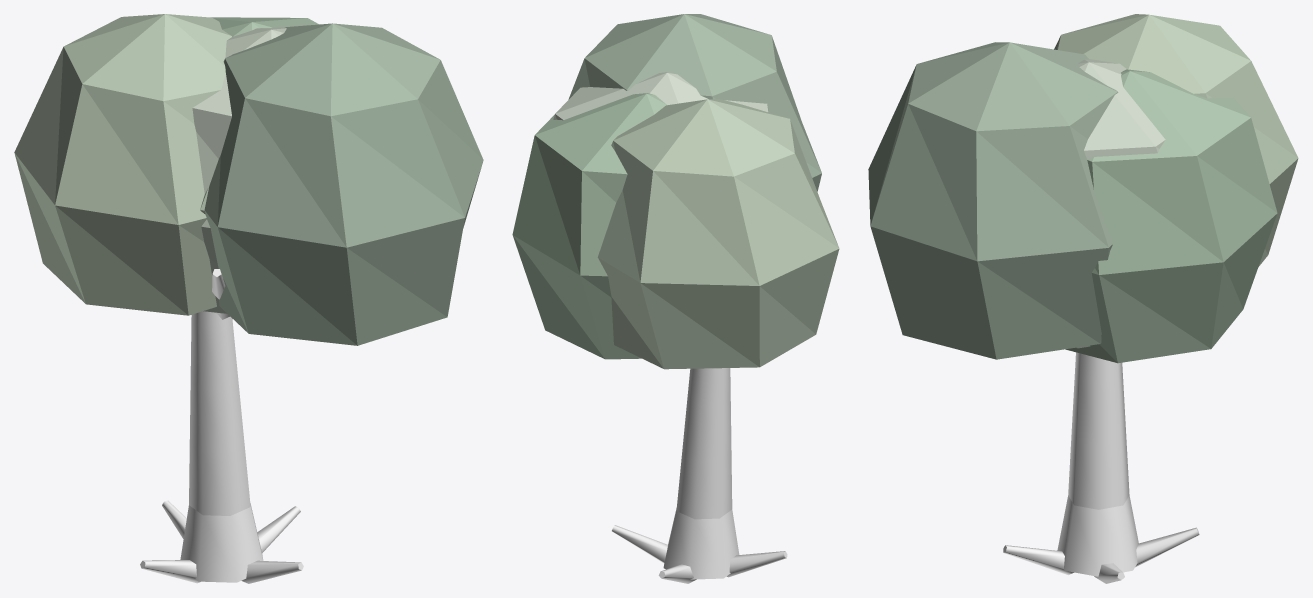
The model's file is tree_giant.glb.
The picture shows the model from 3 angles, left to right: view 1: azimuth 30°, elevation 25°; view 2: azimuth 150°, elevation 25°; view 3: azimuth 270°, elevation 25°; orthographic projection. The views are drawn at different scales.
Visible parts, largest first — view 1: Tree; view 2: Tree; view 3: Tree.
Boxes of the visible parts, x1,y1,x2,y2 form: Tree: (14, 14, 483, 583); Tree: (512, 14, 839, 583); Tree: (868, 14, 1298, 583).
Bounding box in the file's own units: 17.81 × 26.97 × 18.81.
